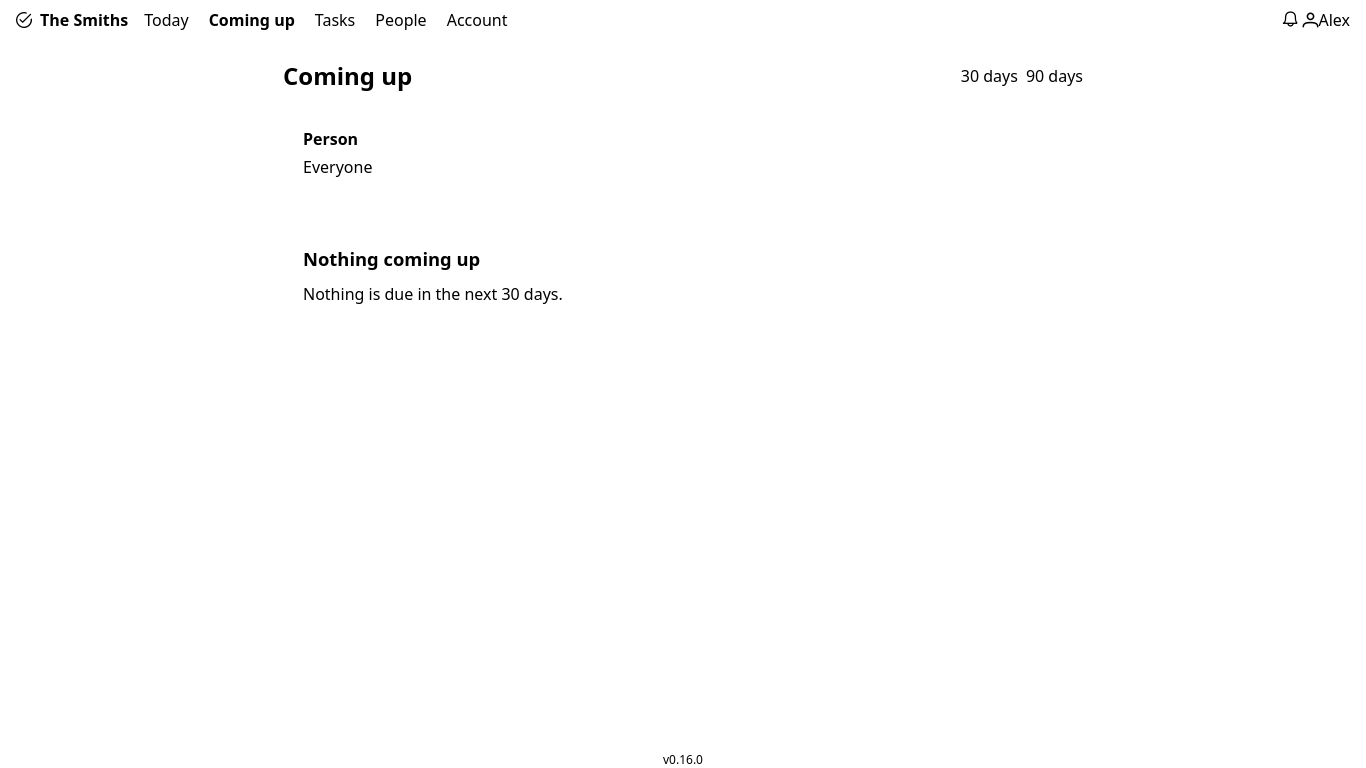
Test: Coming up › switches between 30 and 90 days
The width and height of the screenshot is (1366, 768).
Click the button "90 days" at (1054, 76), box left=1026, top=64, right=1083, bottom=86
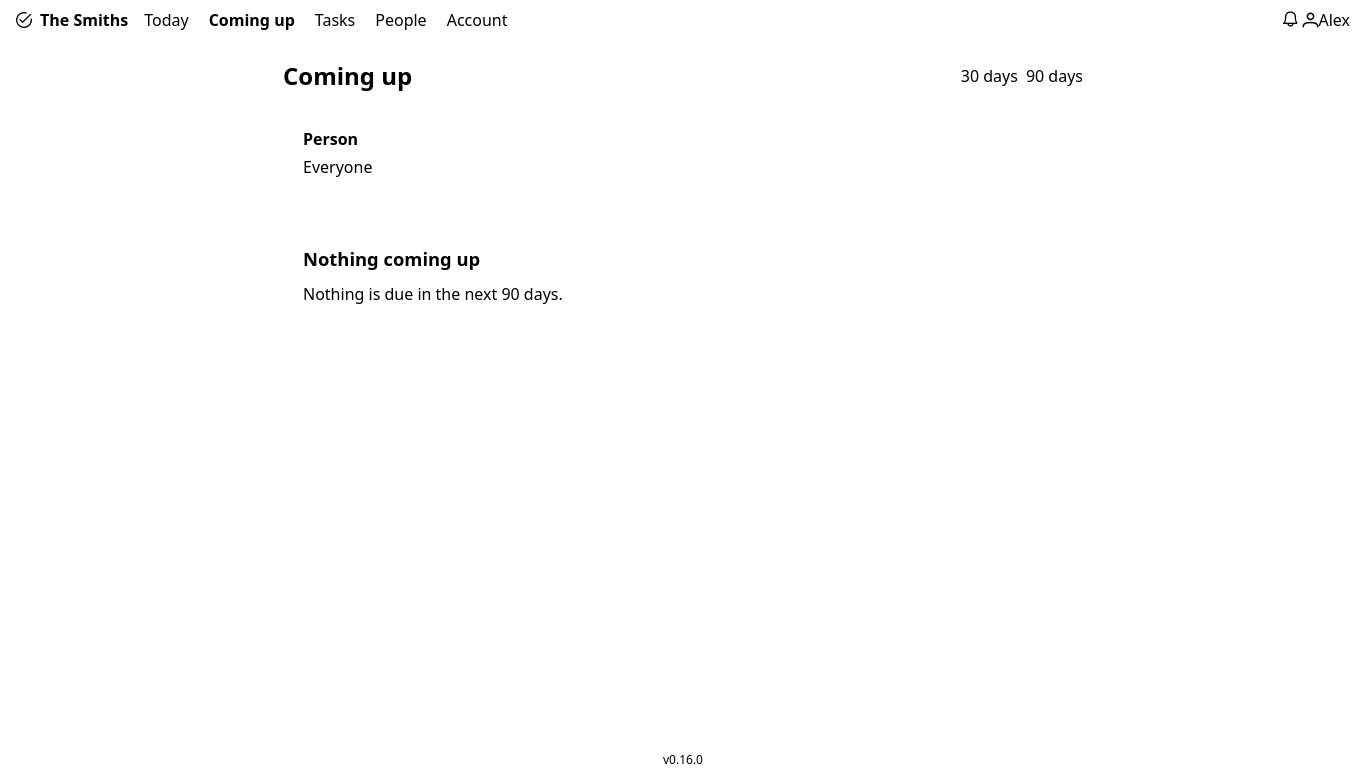
Now the text "Nothing is due in the next 90 days" is shown, box left=303, top=283, right=563, bottom=305
